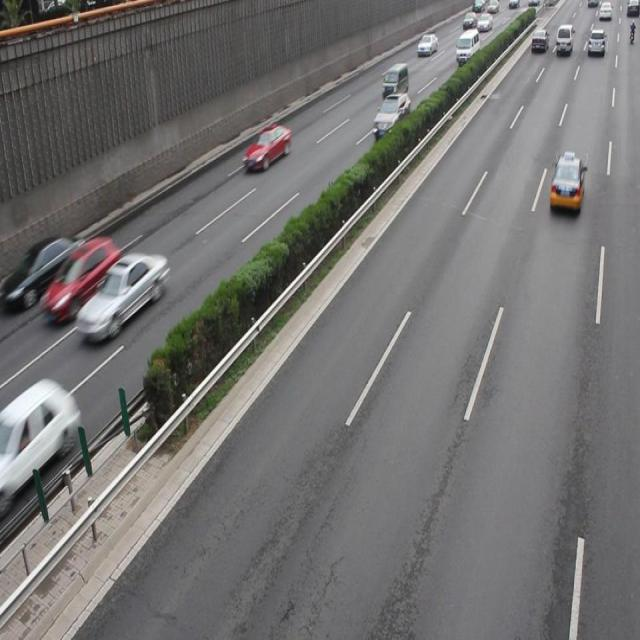car: (1, 383, 79, 499), (75, 252, 170, 343), (42, 236, 119, 326), (15, 233, 84, 306), (243, 124, 290, 174), (548, 153, 584, 213), (373, 92, 410, 139)
